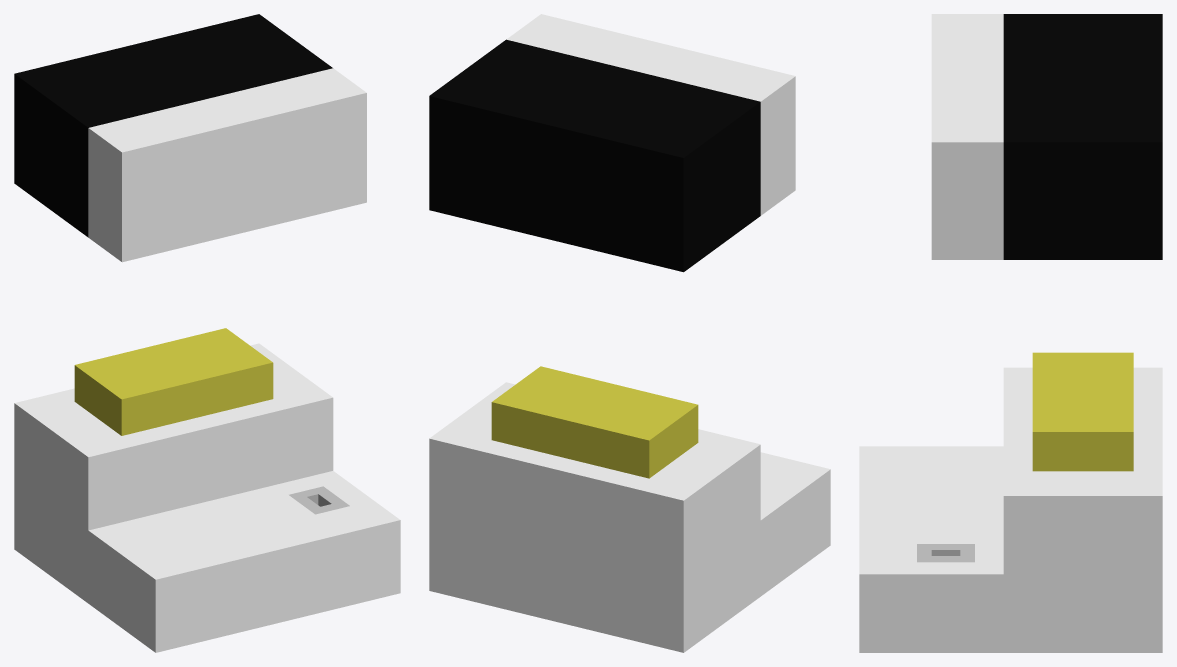
Rendered from KeyMachine.vox-1.obj.
3 renders of one model, left to right at view 1: azimuth 30°, elevation 25°; view 2: azimuth 150°, elevation 25°; view 3: azimuth 270°, elevation 25°, orthographic. The views are drawn at different scales.
Size of the model in its own units: 2.1 by 3.9 by 2.1.
1 material, 1 textured.
